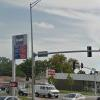Traffic light: (78, 44, 93, 60)
